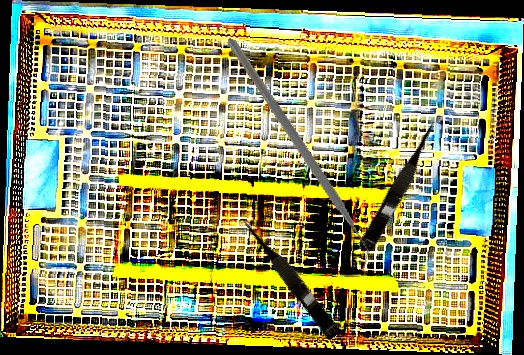Chopper: (163, 37, 430, 273)
Micro Scissor: (237, 211, 344, 342), (356, 114, 447, 257)
